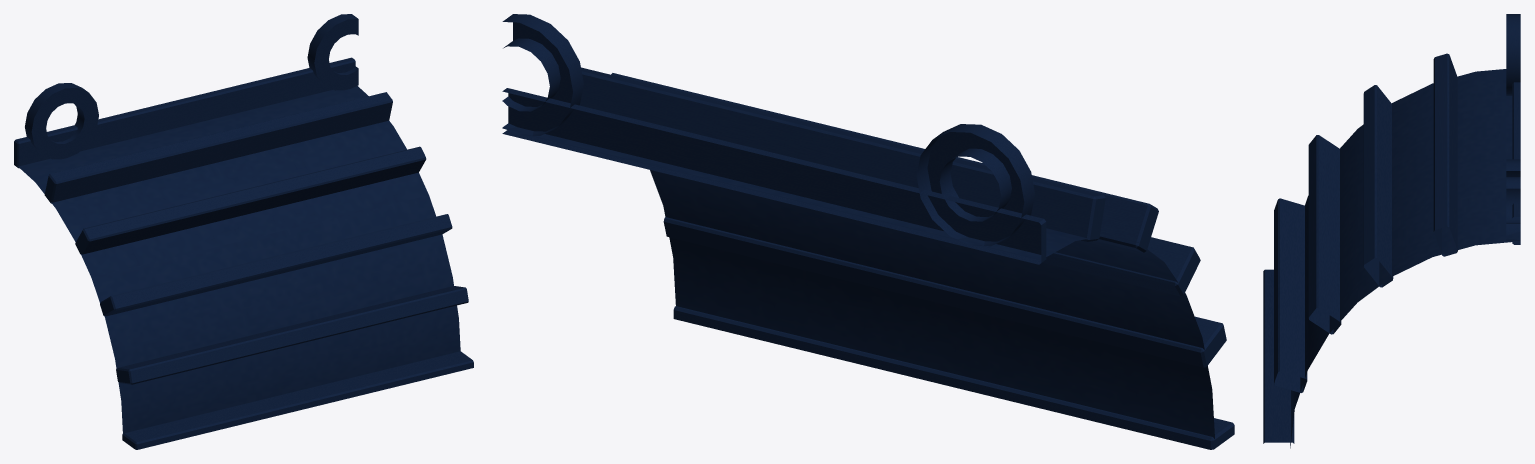
The model's file is cell_22.obj.
3 renders of one model, left to right at view 1: azimuth 30°, elevation 25°; view 2: azimuth 150°, elevation 25°; view 3: azimuth 270°, elevation 25°, orthographic. The views are drawn at different scales.
Parts seen in each view (by area): view 1: cell_22; view 2: cell_22; view 3: cell_22.
Part boxes in pixels (x1,y1,x2,y2): cell_22: [14, 14, 473, 449]; cell_22: [502, 14, 1234, 449]; cell_22: [1263, 14, 1520, 448].
Bounding box in the file's own units: 1 × 0.755 × 0.6255.
